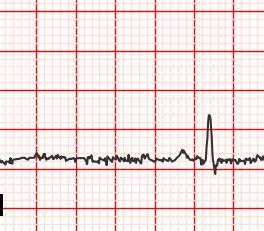ST Depression: (197, 156, 226, 179)
